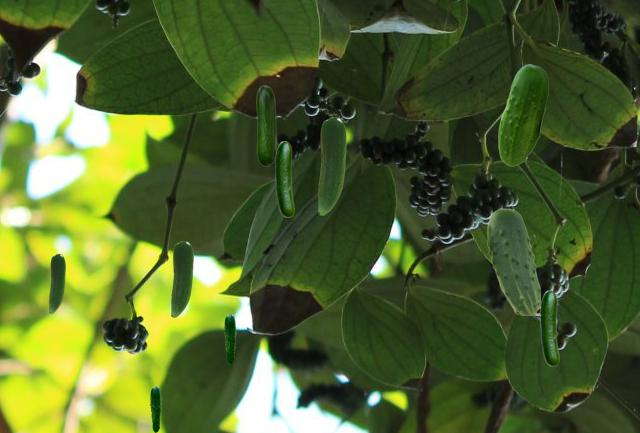cucumber: (487, 208, 539, 314), (498, 64, 547, 165), (318, 117, 345, 214), (171, 241, 192, 316), (256, 85, 275, 165), (540, 290, 558, 365), (275, 141, 293, 216), (49, 254, 64, 312), (224, 314, 235, 363), (150, 386, 160, 431)
